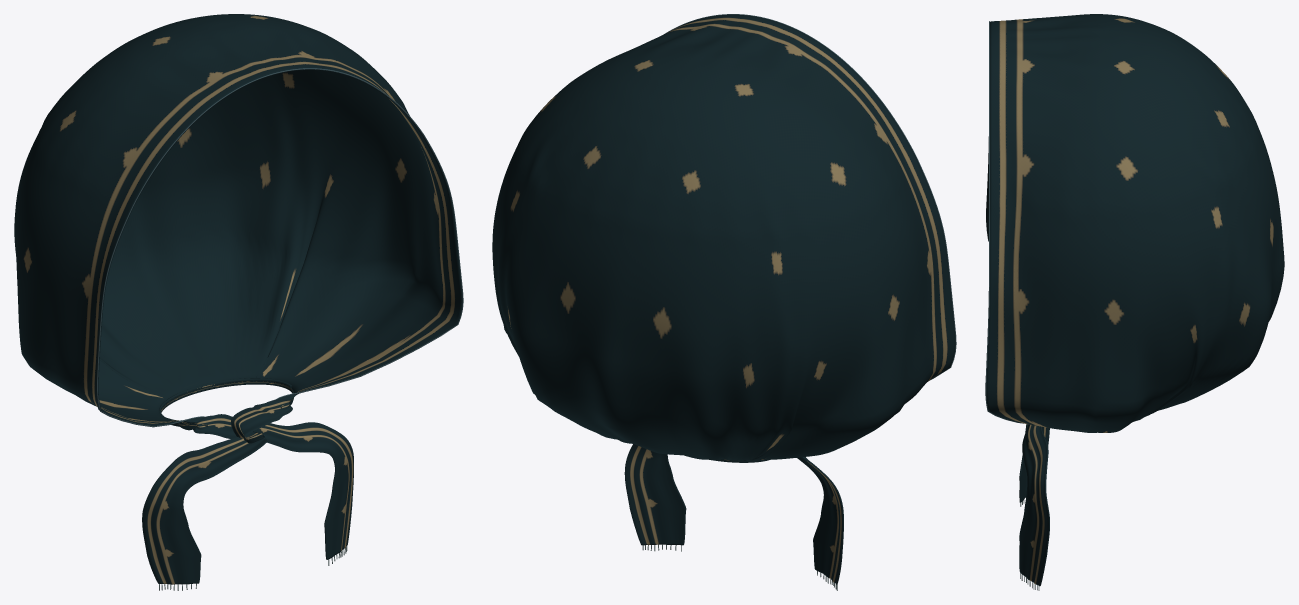
The model's file is Masculine-buttonup-pashmina244-headgear.glb.
3 renders of one model, left to right at view 1: azimuth 30°, elevation 25°; view 2: azimuth 150°, elevation 25°; view 3: azimuth 270°, elevation 25°, orthographic. The views are drawn at different scales.
Parts seen in each view (by area): view 1: 226 headgear / Headwear / continuous woven pashmina239, 226 headgear / Headwear / face edge239; view 2: 226 headgear / Headwear / continuous woven pashmina239, 226 headgear / Headwear / face edge239; view 3: 226 headgear / Headwear / continuous woven pashmina239, 226 headgear / Headwear / face edge239.
Part boxes in pixels (<box>): 226 headgear / Headwear / continuous woven pashmina239: <box>14,14,462,584</box>; 226 headgear / Headwear / face edge239: <box>97,68,463,427</box>; 226 headgear / Headwear / continuous woven pashmina239: <box>492,14,955,584</box>; 226 headgear / Headwear / face edge239: <box>665,14,956,380</box>; 226 headgear / Headwear / continuous woven pashmina239: <box>986,14,1284,586</box>; 226 headgear / Headwear / face edge239: <box>985,21,1021,423</box>.
Size of the model in its own units: 1.03 by 1.35 by 0.7127.
3 materials, 1 textured.
